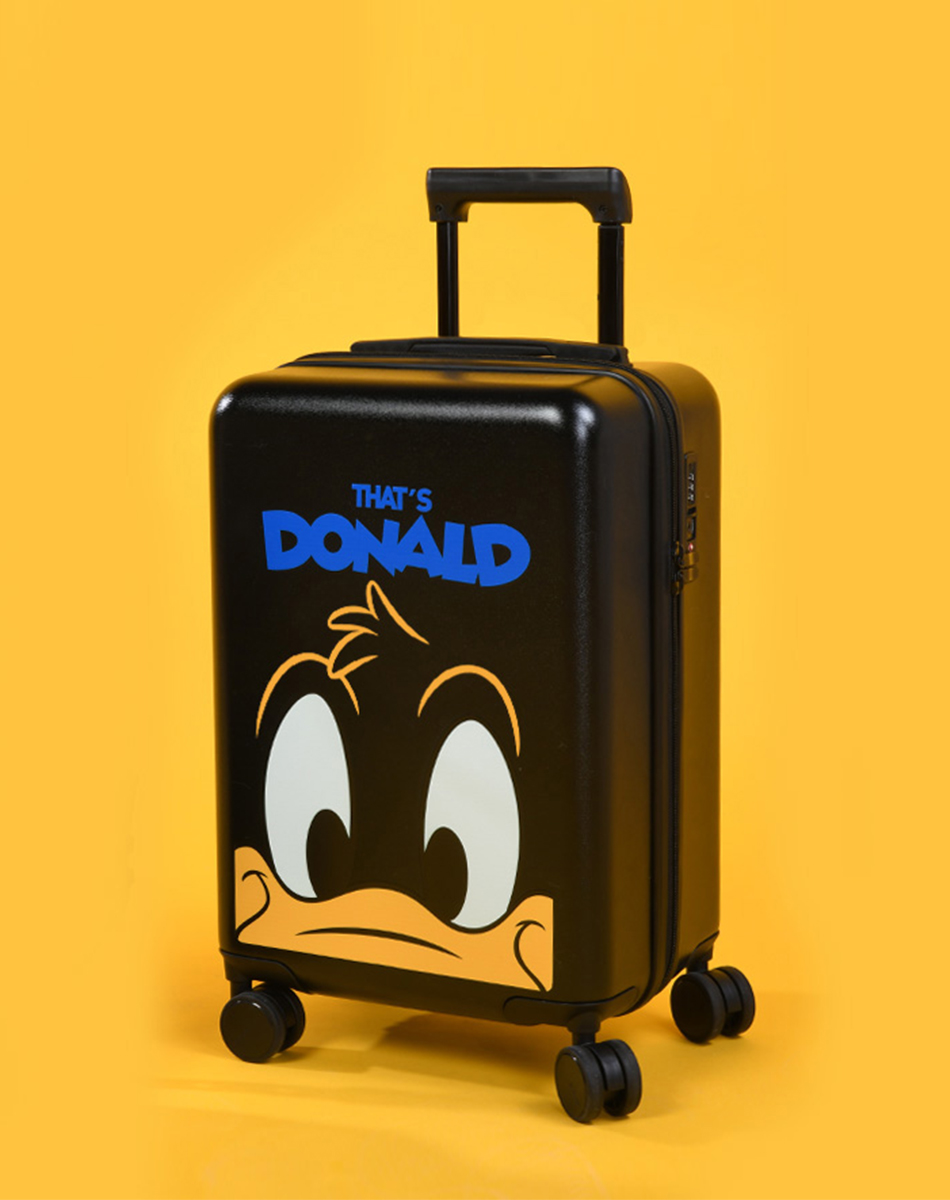box: (206, 352, 720, 1028)
handle: (351, 336, 628, 363)
lock: (670, 449, 699, 591)
wheel: (554, 1037, 642, 1125), (220, 977, 306, 1065), (669, 965, 757, 1045)
